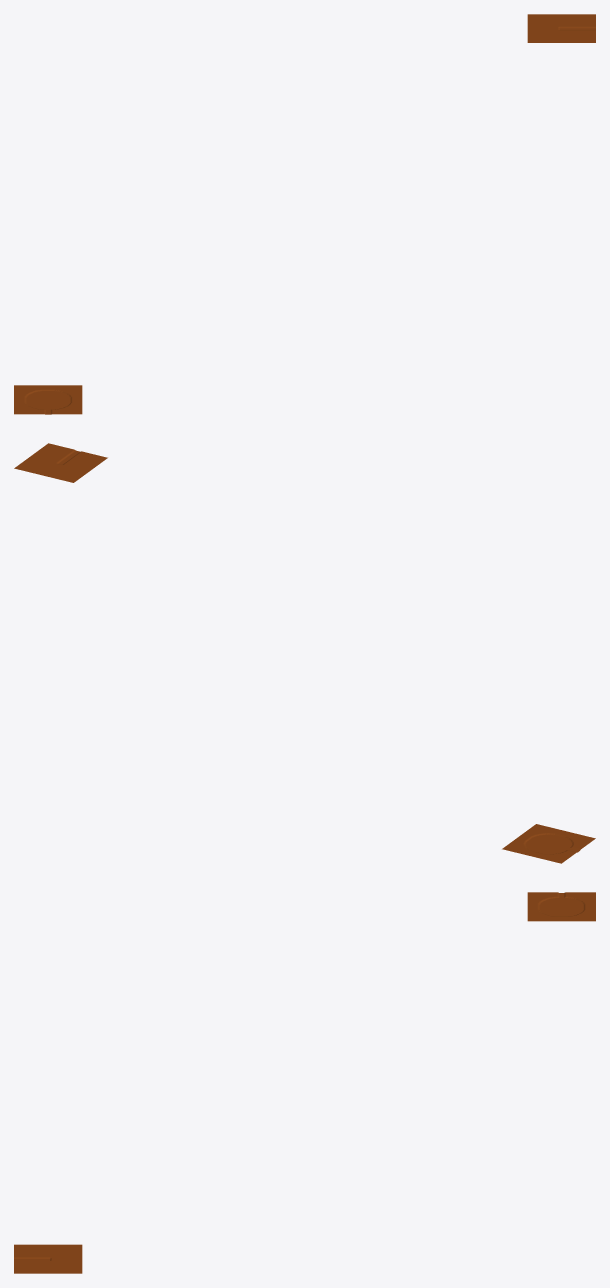
Rendered from Terrain_Part_Plane_13.glb.
3 renders of one model, top to bottom at view 1: azimuth 90°, elevation 25°; view 2: azimuth 150°, elevation 25°; view 3: azimuth 270°, elevation 25°, orthographic.
Visible parts, largest first — view 1: Terrain_Part_Plane_13.002; view 2: Terrain_Part_Plane_13.002; view 3: Terrain_Part_Plane_13.002.
Part boxes in pixels (left/top/right/bottom): Terrain_Part_Plane_13.002: left=14, top=14, right=595, bottom=414; Terrain_Part_Plane_13.002: left=14, top=443, right=595, bottom=863; Terrain_Part_Plane_13.002: left=14, top=892, right=595, bottom=1273.
Size of the model in its own units: 270 by 3.2 by 170.
